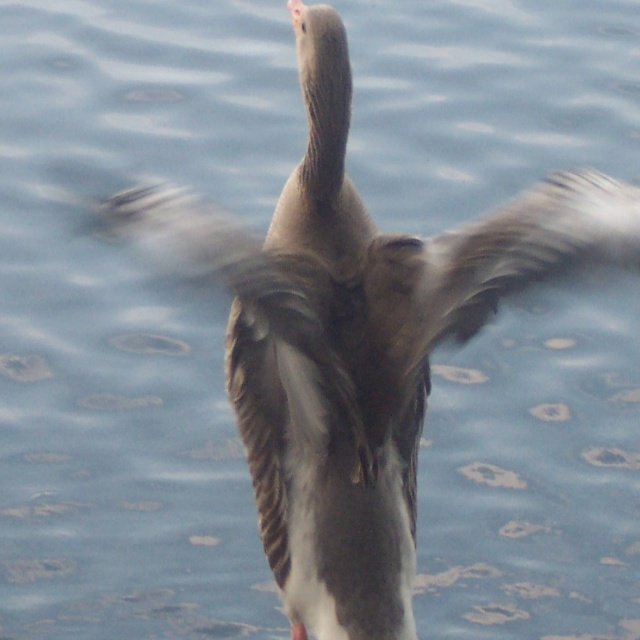Goose: (116, 0, 639, 639)
